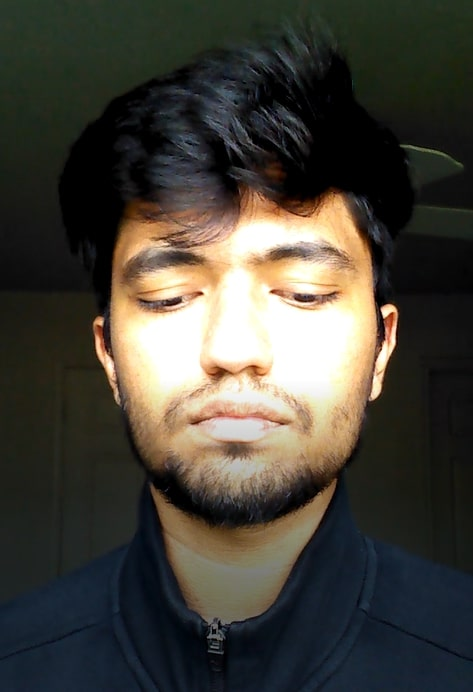Half Asleep: (125, 240, 356, 332)
